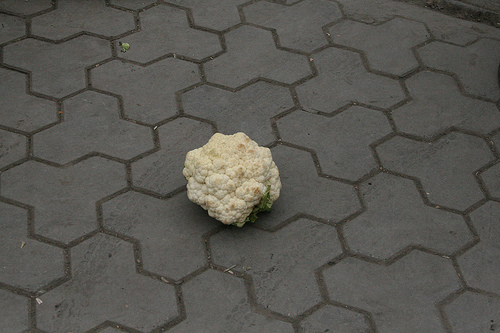cauliflower: (183, 129, 282, 230)
